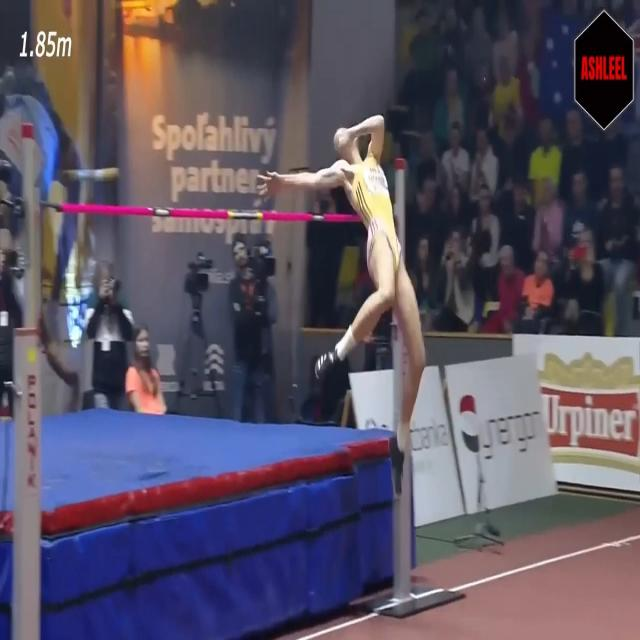jump: (256, 114, 426, 497)
